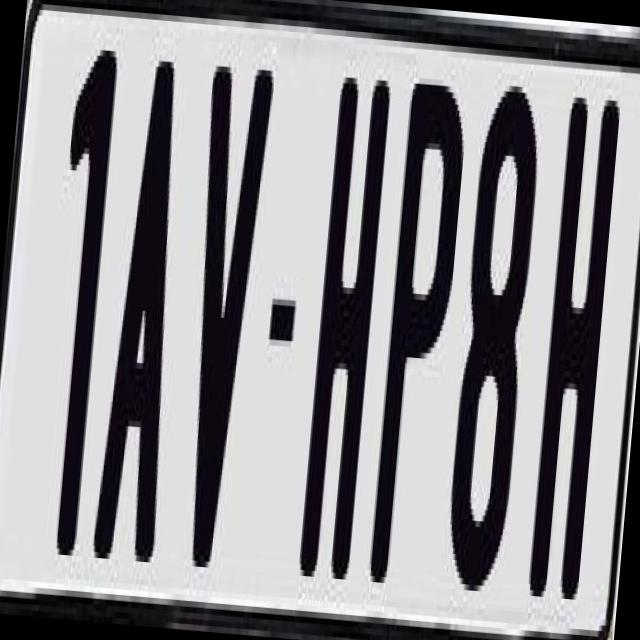1: (32, 47, 117, 567)
8: (442, 66, 548, 587)
A: (87, 47, 204, 580)
H: (291, 76, 393, 615), (526, 85, 629, 600)
P: (365, 65, 469, 586)
V: (166, 52, 272, 558)
